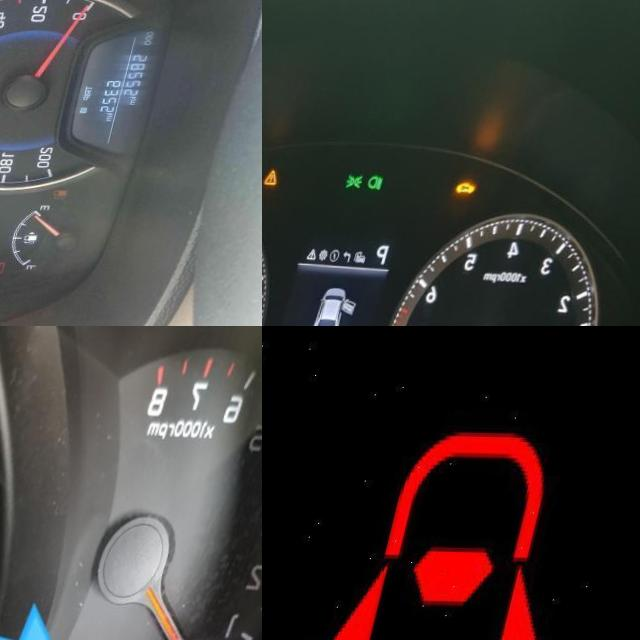Central Warning lamp: (276, 167, 292, 183)
Low beam: (379, 173, 396, 187)
SideLamp: (357, 172, 376, 186)
